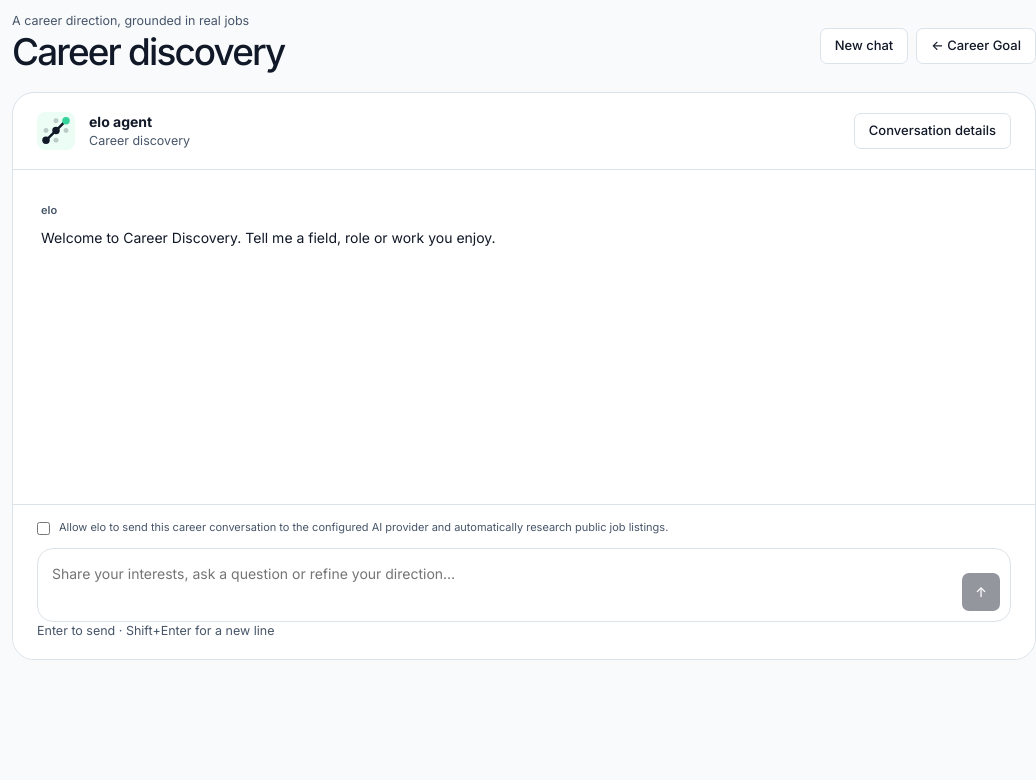
it: retains a failed message for retry without overwriting the next draft
Expected: the text "Welcome to Career Discovery. Tell me a field, role or work you enjoy." is shown, 41,229 -> 496,246
Click the checkbox labelled "Allow elo" at coordinates (44, 528), box 37,521 -> 50,536
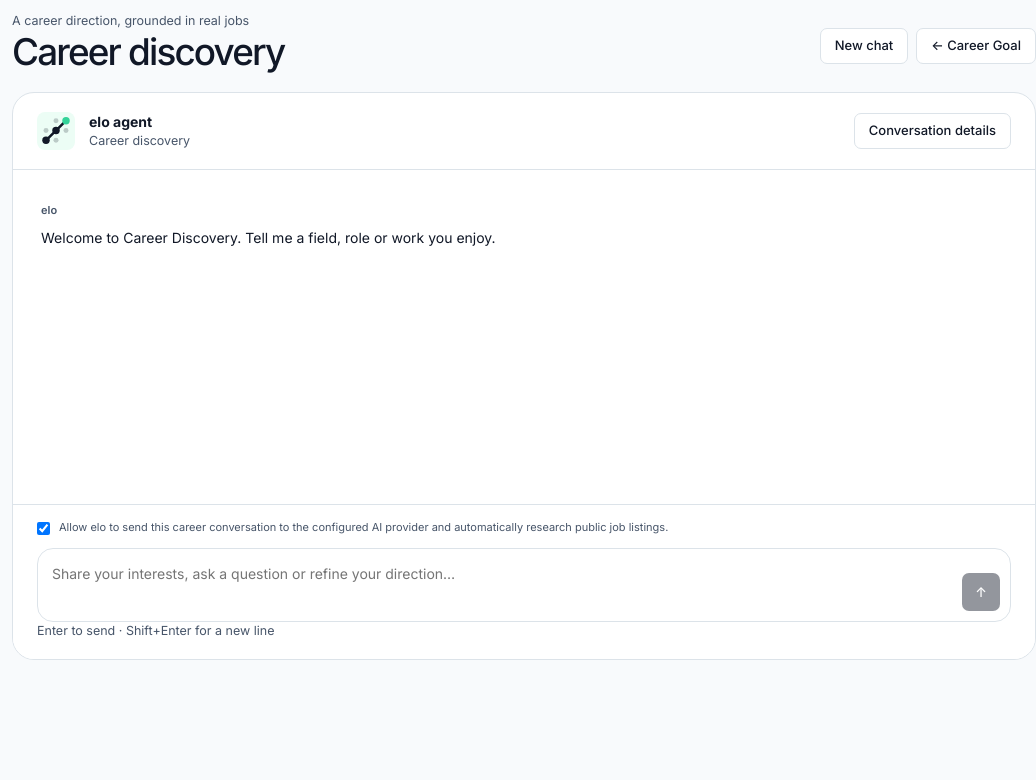
Replace the text in the text box named "Message elo" with "Explore backend work" at coordinates (500, 585), box 48,558 -> 952,611
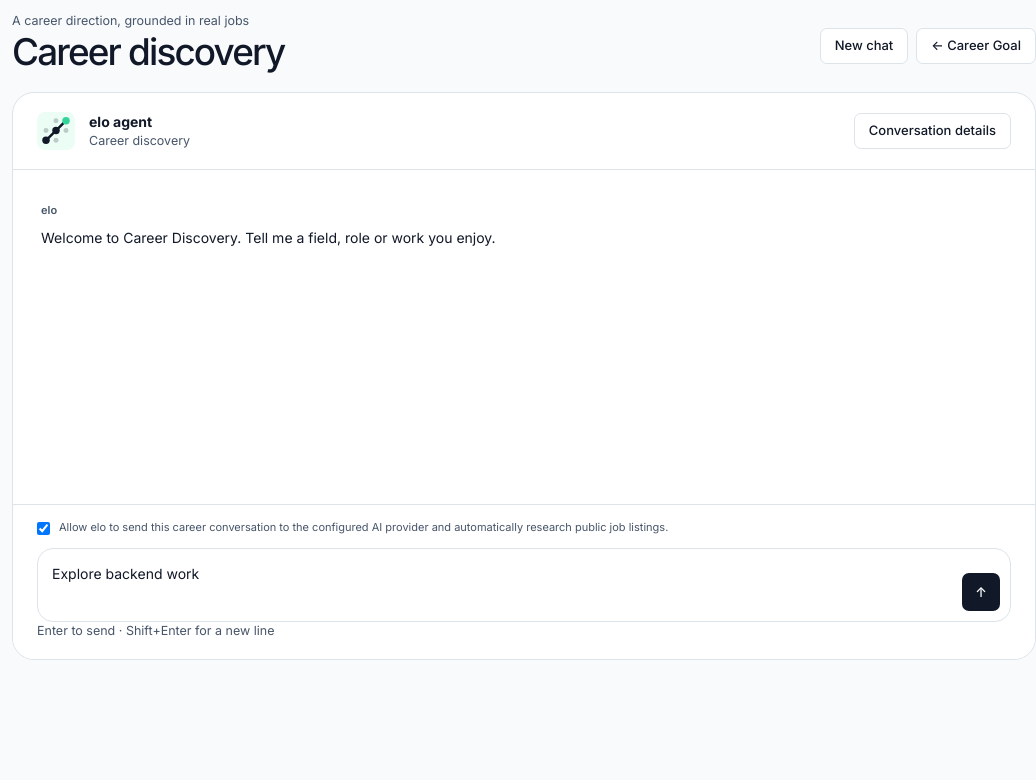
Click the button named "Send message" at coordinates (981, 592), box 962,573 -> 1000,611
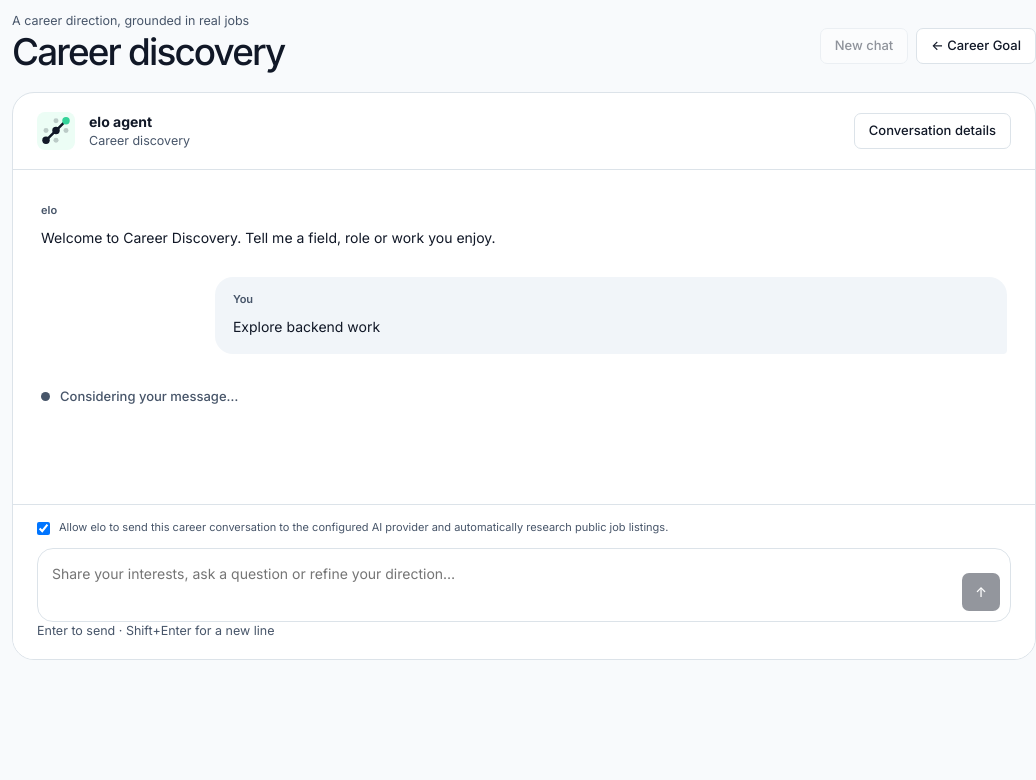
Replace the text in the text box named "Message elo" with "My next draft" at coordinates (500, 585), box 48,558 -> 952,611
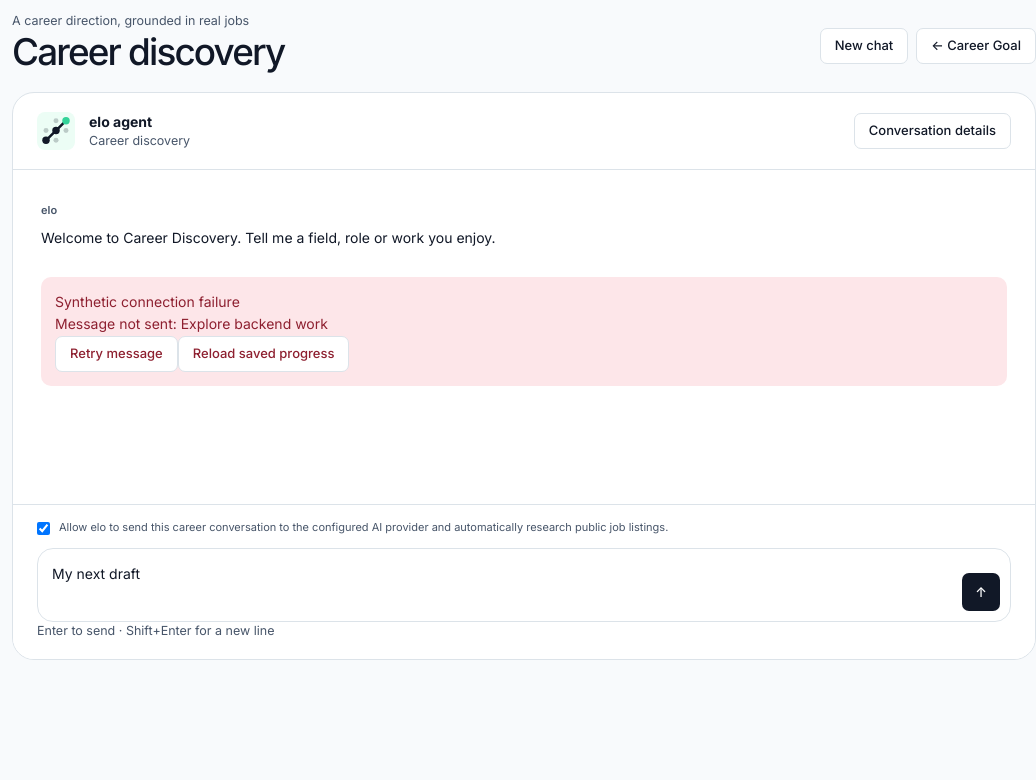
Expected: the message shows "Message not sent: Explore backend work", 41,277 -> 1007,386
Expected: the button "Retry message" is enabled, 55,336 -> 178,372
